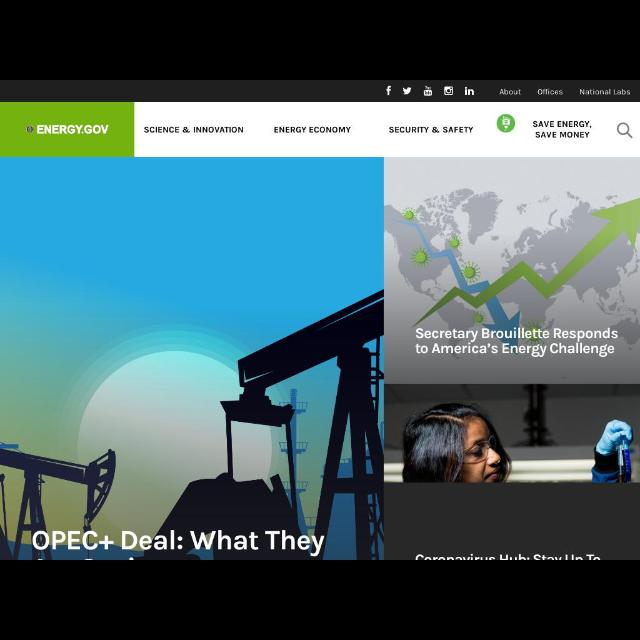button: (496, 114, 516, 134)
icon: (618, 124, 632, 140), (501, 117, 511, 129), (423, 86, 433, 96), (464, 86, 474, 96), (443, 86, 452, 95), (402, 86, 411, 94), (386, 86, 392, 96)
image: (3, 157, 385, 559), (384, 158, 640, 384), (385, 385, 639, 483), (26, 126, 34, 132)
multitab: (1, 81, 639, 102)
text: (32, 530, 324, 556), (414, 327, 616, 358), (532, 120, 594, 140), (143, 126, 244, 134), (36, 125, 108, 135), (390, 126, 474, 134), (274, 126, 350, 134), (579, 89, 631, 97), (537, 86, 563, 96), (500, 90, 522, 96)
textbutton: (1, 102, 135, 158)
toolbar: (1, 103, 639, 157)
